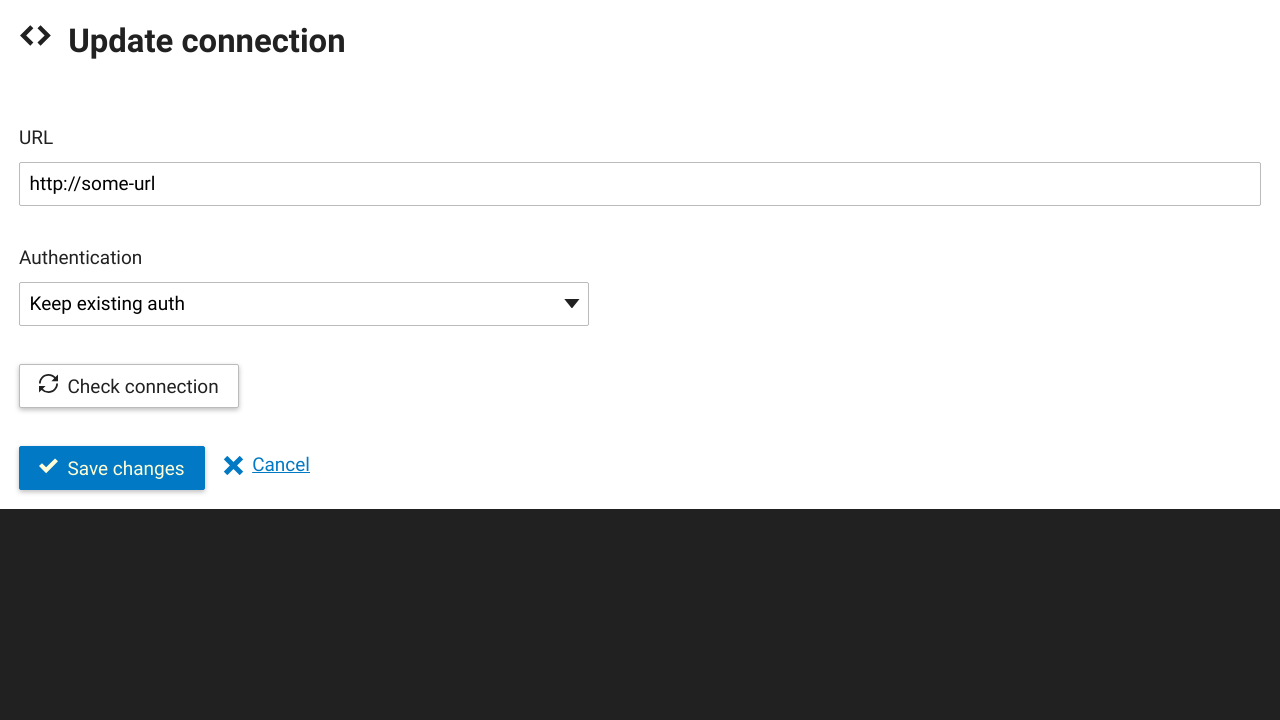
it: validation errors › should display an error if a URL already in use by another feed is entered
Replace the text in the field labelled "URL" with "http://other". click: (640, 184)
box: [19, 162, 1261, 206]
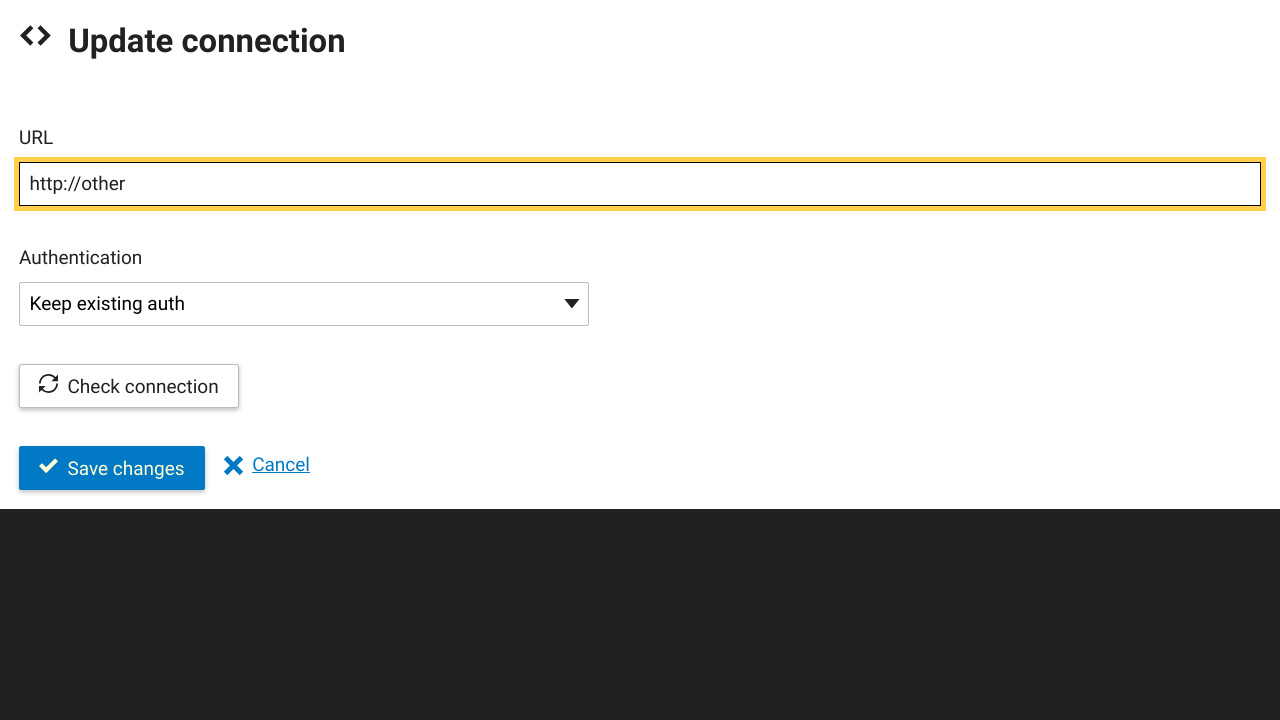
Click the button "Save changes". click: (112, 468)
box: [19, 446, 205, 490]
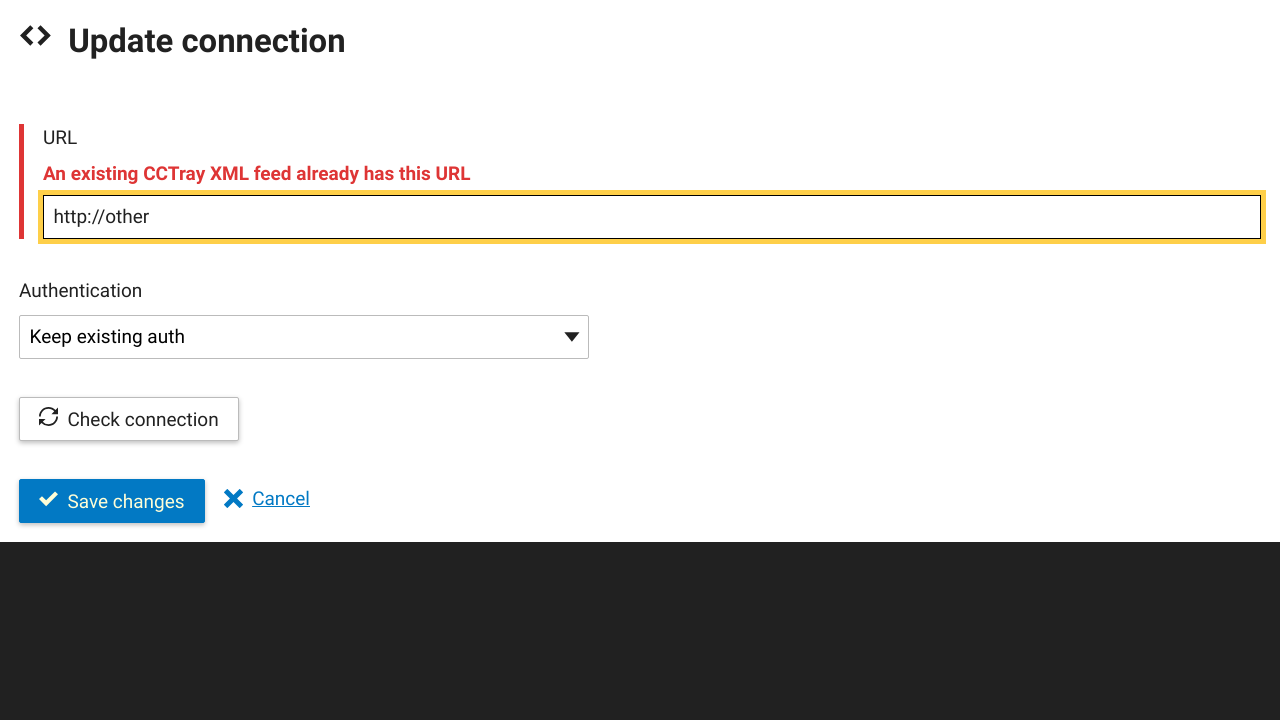
Check: the text "An existing CCTray XML feed already has this URL" is shown, box [42, 161, 470, 185]
